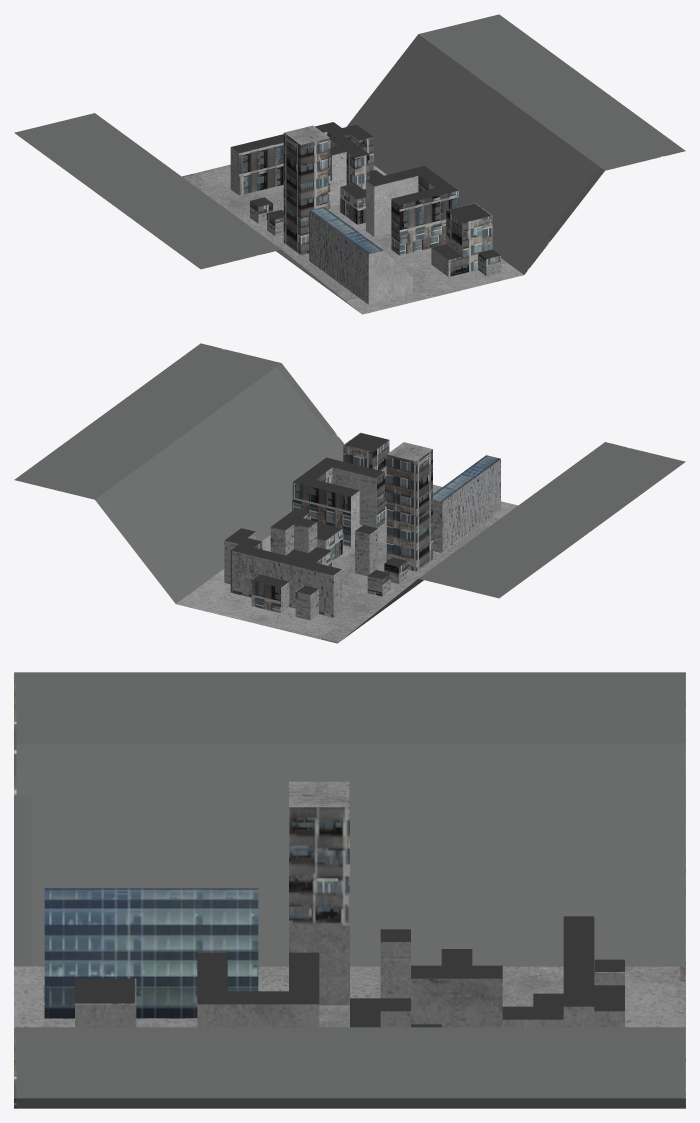
Rendered from LondonBlock.fbx.
The picture shows the model from 3 angles, top to bottom: view 1: azimuth 30°, elevation 25°; view 2: azimuth 150°, elevation 25°; view 3: azimuth 270°, elevation 25°; orthographic projection. The views are drawn at different scales.
Parts seen in each view (by area): view 1: Plane.002; view 2: Plane.002; view 3: Plane.002.
Part boxes in pixels (bbox=[...]): Plane.002: bbox=[14, 14, 685, 314]; Plane.002: bbox=[14, 343, 685, 643]; Plane.002: bbox=[14, 672, 685, 1108].
Size of the model in its own units: 600 by 130 by 400.
Materials: 1 (1 with a texture image).
